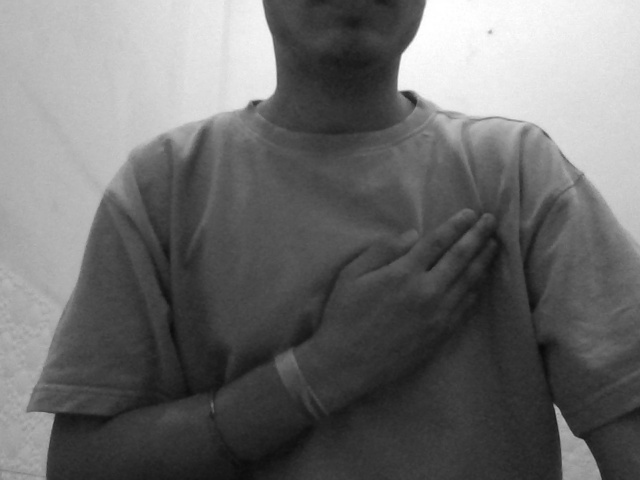Sorry: (267, 194, 559, 424)
